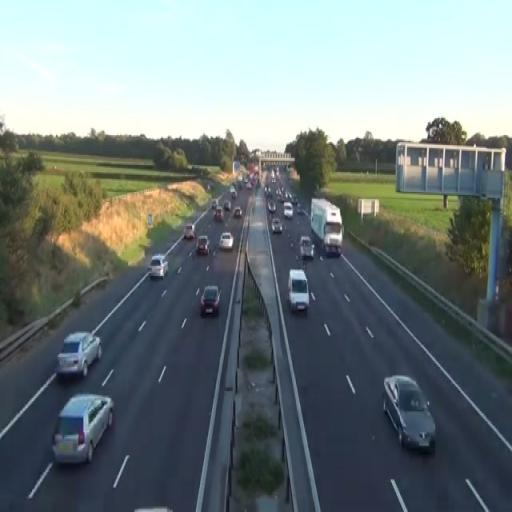Car: (51, 393, 115, 465), (382, 375, 436, 454), (56, 331, 102, 379), (287, 269, 310, 313), (200, 285, 222, 317), (148, 254, 168, 279), (300, 235, 314, 261), (219, 232, 234, 252), (196, 234, 210, 254), (283, 202, 294, 219), (272, 217, 282, 234), (234, 207, 242, 218)
Truck: (310, 198, 344, 257)
